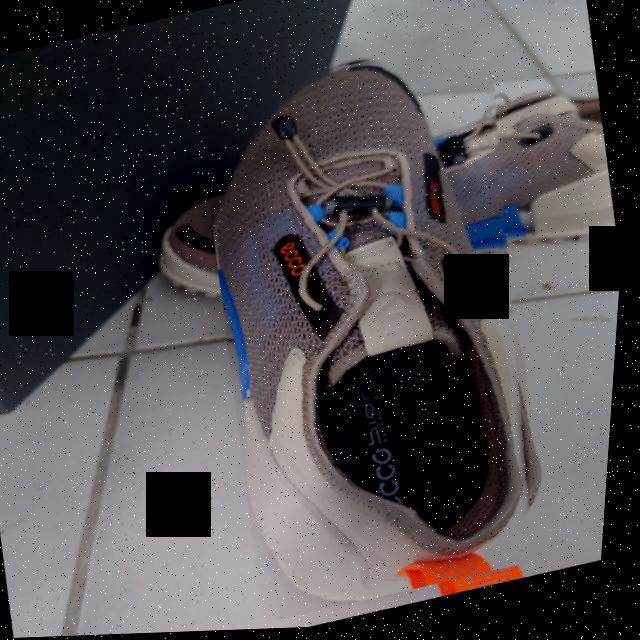shoe: (169, 30, 593, 629)
